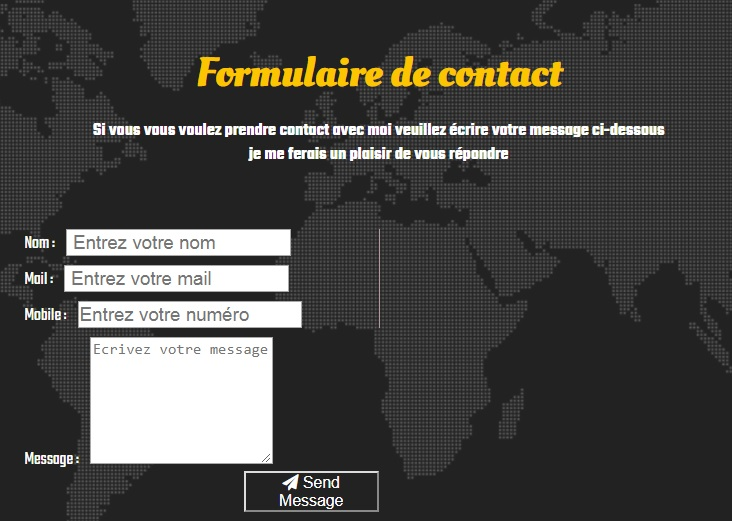_form_: (6, 217, 399, 521)
button: (242, 470, 381, 513)
field: (87, 334, 275, 466), (76, 299, 303, 331), (61, 263, 291, 294), (64, 227, 293, 258)
field_with_label: (23, 334, 277, 469), (22, 296, 305, 333), (20, 226, 296, 259), (22, 262, 293, 295)
